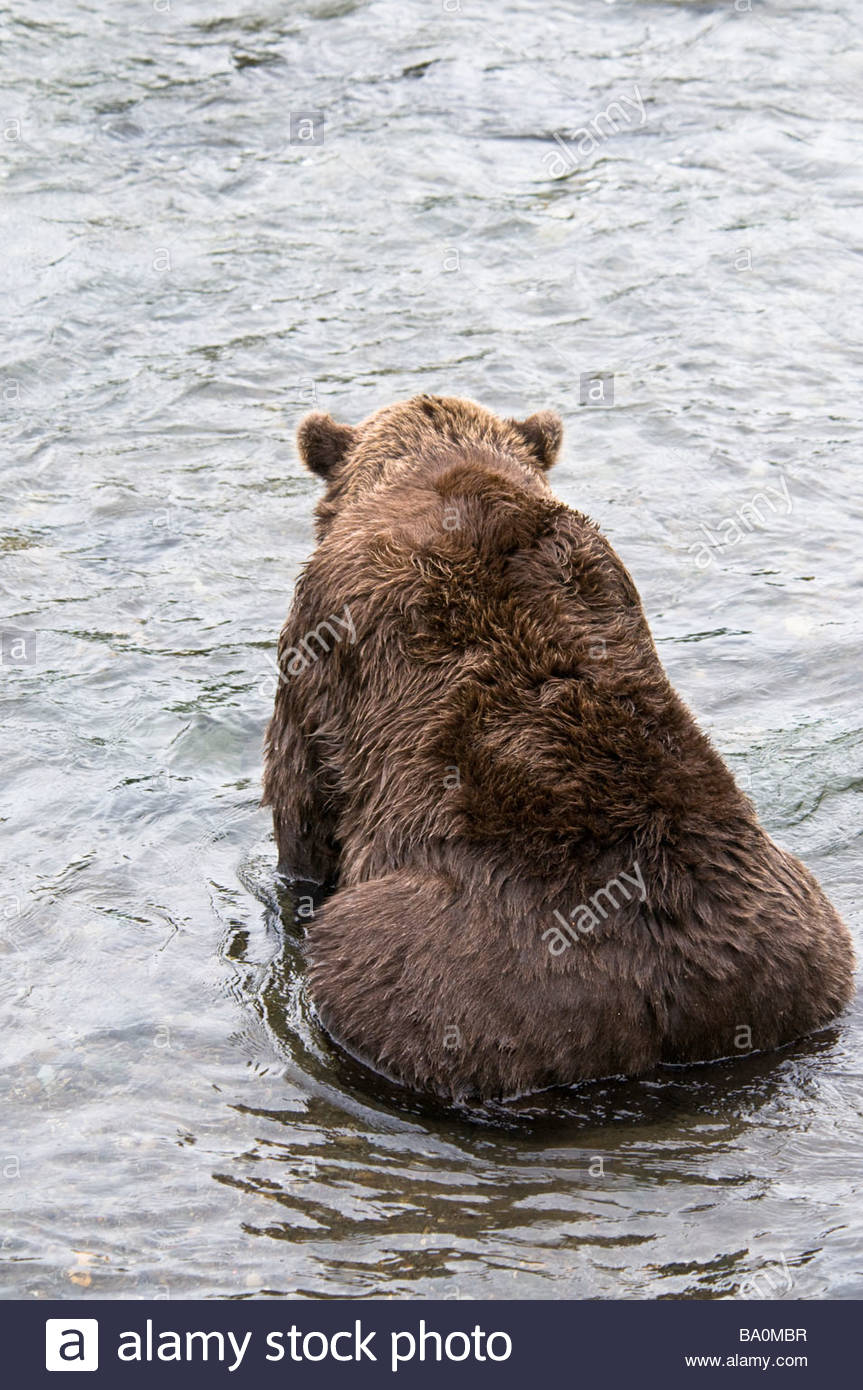bear: (255, 390, 855, 1104)
